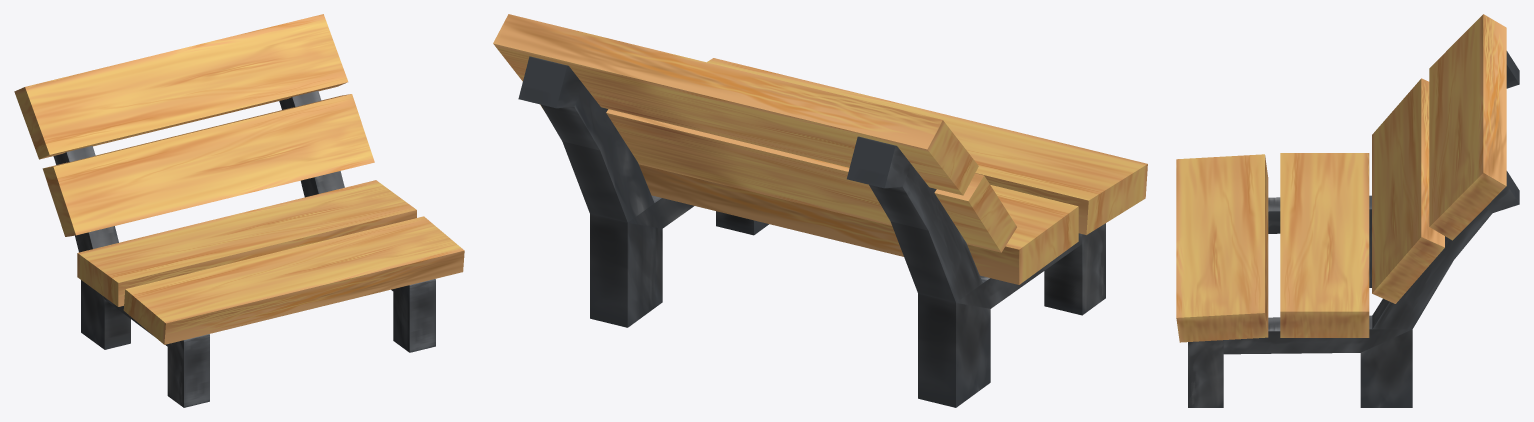
The model's file is bench.FBX.
3 views of the same model, side by side, from view 1: azimuth 30°, elevation 25°; view 2: azimuth 150°, elevation 25°; view 3: azimuth 270°, elevation 25° (orthographic). The views are drawn at different scales.
Parts seen in each view (by area): view 1: Box008; view 2: Box008; view 3: Box008.
Part boxes in pixels (<box>): Box008: <box>14,14,464,407</box>; Box008: <box>493,14,1147,407</box>; Box008: <box>1176,14,1519,407</box>.
Size of the model in its own units: 27.65 by 20.13 by 25.27.
2 materials, 2 textured.
